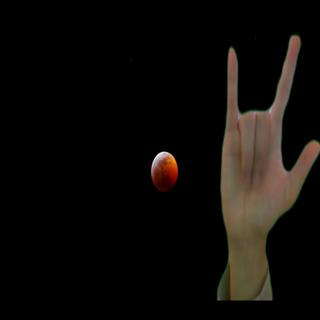ILY: (218, 33, 320, 251)
